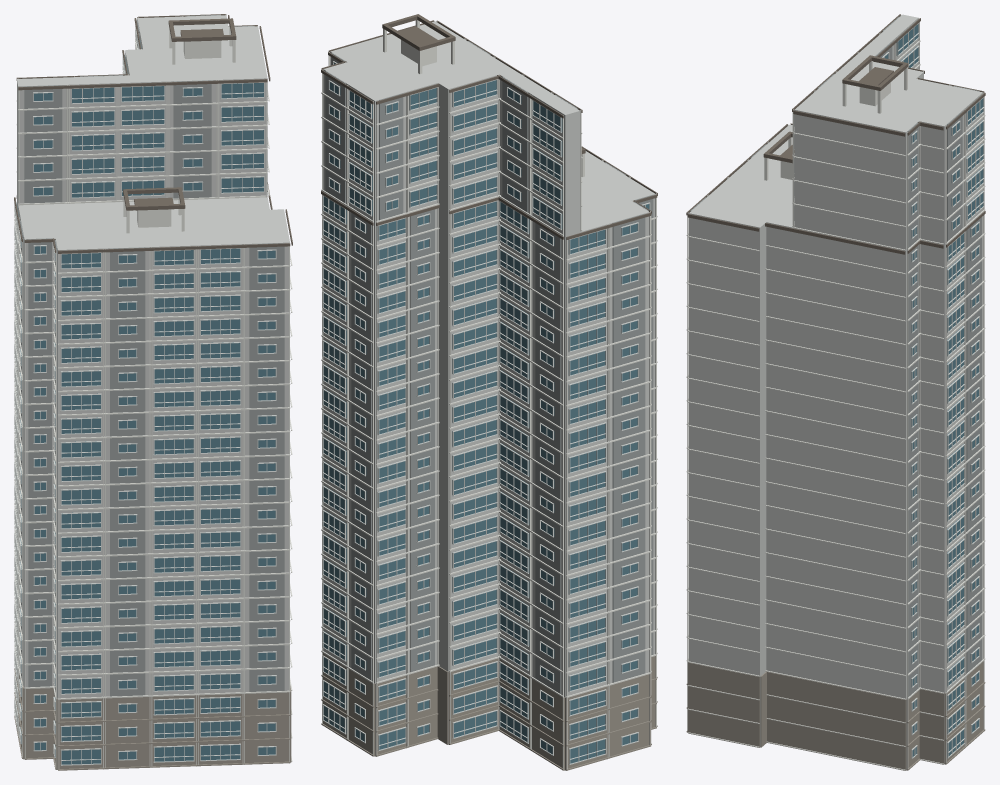
File: bespoke-banpo-xi-106.glb
The picture shows the model from 3 angles, left to right: view 1: azimuth 30°, elevation 25°; view 2: azimuth 150°, elevation 25°; view 3: azimuth 270°, elevation 25°; orthographic projection. The views are drawn at different scales.
Visible parts, largest first — view 1: BX106_editable_BX106_pale_silver_limestone, BX106_editable_BX106_blue_grey_broad_glazing, BX106_editable_BX106_grey_service_core, BX106_editable_BX106_white_window_frames, BX106_editable_BX106_ivory_course_bands, BX106_editable_BX106_warm_ground_stone, BX106_editable_BX106_dark_coping; view 2: BX106_editable_BX106_blue_grey_broad_glazing, BX106_editable_BX106_pale_silver_limestone, BX106_editable_BX106_white_window_frames, BX106_editable_BX106_grey_service_core, BX106_editable_BX106_ivory_course_bands, BX106_editable_BX106_warm_ground_stone, BX106_editable_BX106_dark_coping; view 3: BX106_editable_BX106_pale_silver_limestone, BX106_editable_BX106_ivory_course_bands, BX106_editable_BX106_warm_ground_stone, BX106_editable_BX106_grey_service_core, BX106_editable_BX106_white_window_frames, BX106_editable_BX106_blue_grey_broad_glazing, BX106_editable_BX106_dark_coping.
Boxes of the visible parts, box(x1,y1,x2,y2) form: BX106_editable_BX106_pale_silver_limestone: box(17, 15, 289, 769); BX106_editable_BX106_blue_grey_broad_glazing: box(16, 38, 275, 764); BX106_editable_BX106_grey_service_core: box(20, 15, 284, 697); BX106_editable_BX106_white_window_frames: box(14, 29, 276, 765); BX106_editable_BX106_ivory_course_bands: box(14, 14, 292, 769); BX106_editable_BX106_warm_ground_stone: box(14, 668, 291, 770); BX106_editable_BX106_dark_coping: box(14, 14, 292, 253); BX106_editable_BX106_blue_grey_broad_glazing: box(323, 63, 649, 763); BX106_editable_BX106_pale_silver_limestone: box(323, 21, 655, 769); BX106_editable_BX106_white_window_frames: box(322, 61, 650, 764); BX106_editable_BX106_grey_service_core: box(325, 41, 653, 694); BX106_editable_BX106_ivory_course_bands: box(321, 20, 657, 770); BX106_editable_BX106_warm_ground_stone: box(321, 653, 657, 770); BX106_editable_BX106_dark_coping: box(321, 14, 657, 239); BX106_editable_BX106_pale_silver_limestone: box(689, 14, 982, 769); BX106_editable_BX106_ivory_course_bands: box(686, 14, 985, 770); BX106_editable_BX106_warm_ground_stone: box(686, 661, 985, 770); BX106_editable_BX106_grey_service_core: box(690, 16, 981, 696); BX106_editable_BX106_white_window_frames: box(794, 22, 984, 758); BX106_editable_BX106_blue_grey_broad_glazing: box(884, 24, 983, 757); BX106_editable_BX106_dark_coping: box(686, 14, 985, 254).
Bounding box in the file's own units: 33 × 75.7 × 30.9.
